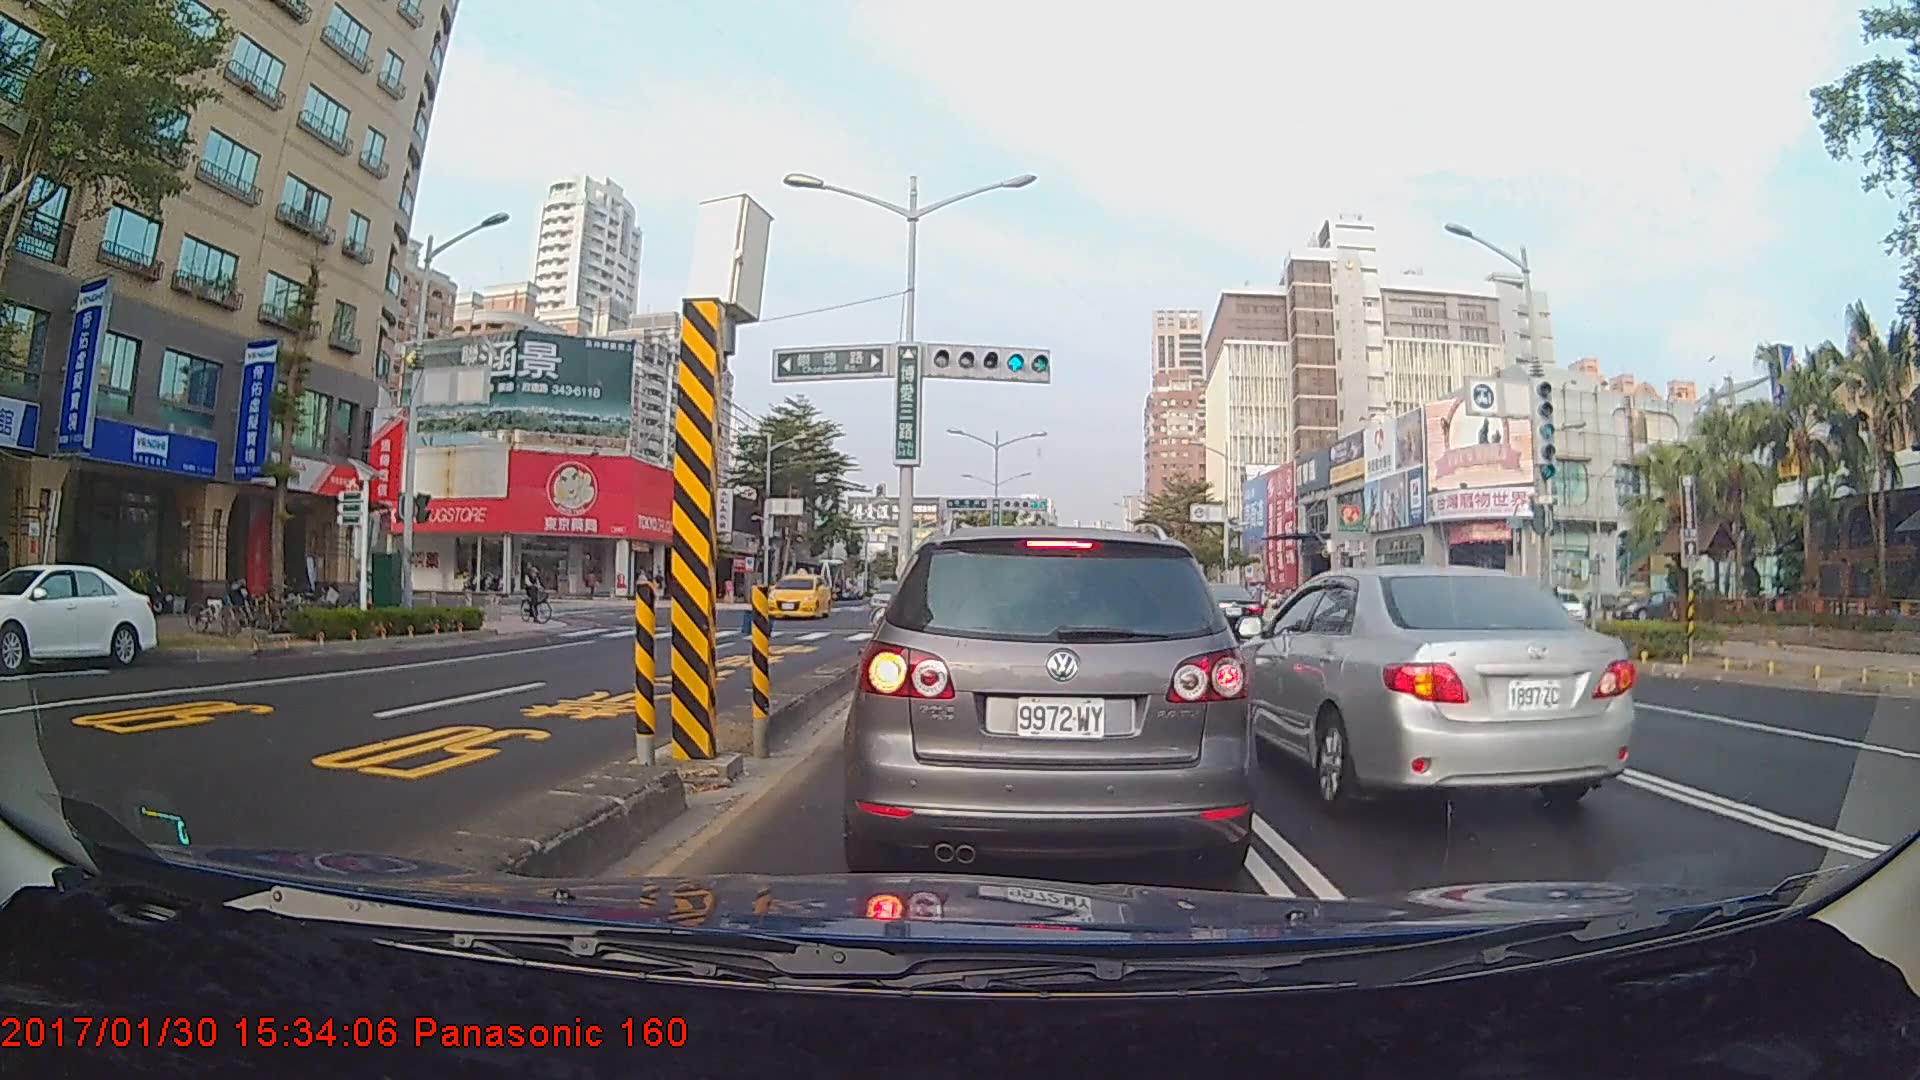rider: (518, 559, 561, 629)
vehicle: (851, 523, 1247, 878), (1210, 561, 1639, 821), (0, 561, 162, 671), (1187, 580, 1266, 641), (763, 575, 831, 622)
